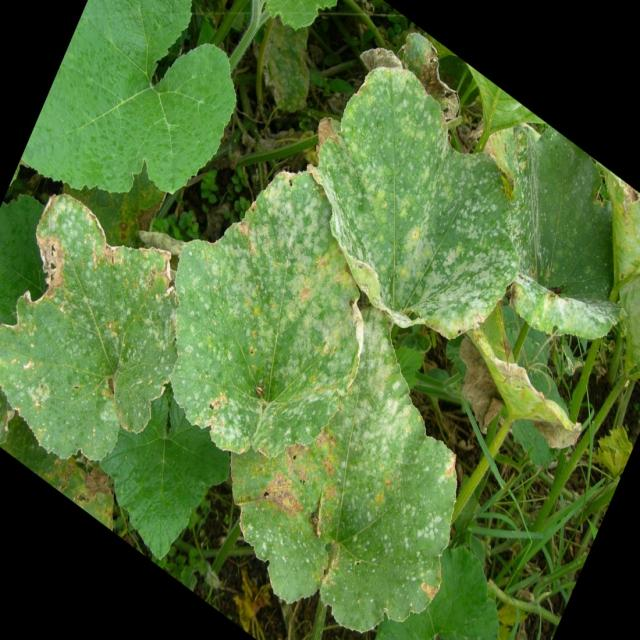Powdery Mildew: (168, 167, 364, 457), (314, 64, 520, 339)
